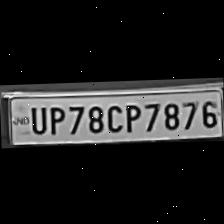6: (196, 96, 218, 127)
7: (64, 100, 84, 134), (139, 97, 159, 130), (178, 97, 198, 128)
8: (84, 100, 104, 132), (160, 98, 180, 130)
C: (104, 100, 122, 132)
P: (44, 102, 64, 134), (122, 99, 140, 132)
U: (26, 102, 46, 133)
